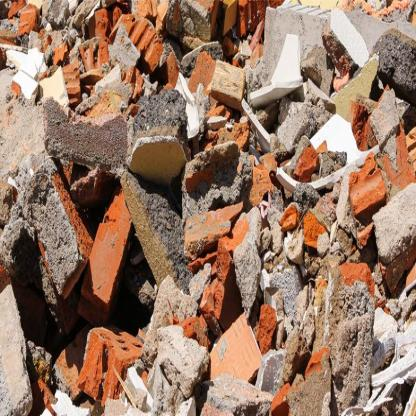brick: (1, 1, 415, 414)
